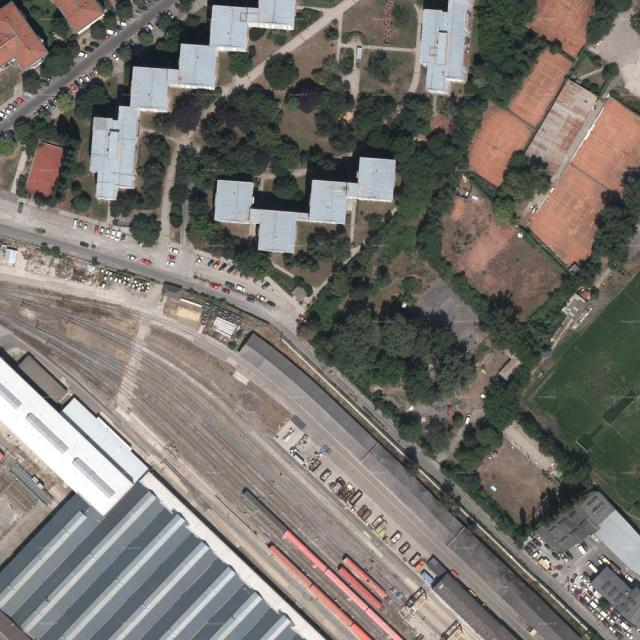building: (228, 326, 380, 475), (0, 358, 134, 517), (448, 524, 580, 640), (362, 443, 464, 544), (519, 78, 605, 184), (60, 394, 151, 484), (89, 104, 139, 202), (0, 2, 48, 71), (15, 351, 71, 405), (128, 66, 178, 114), (256, 210, 308, 255), (588, 564, 633, 608), (209, 5, 250, 53), (177, 43, 218, 89), (213, 180, 254, 224), (309, 179, 348, 224), (356, 157, 395, 202), (614, 587, 640, 624)
dryland: (419, 183, 569, 330), (586, 6, 640, 99), (152, 282, 212, 329), (202, 313, 235, 342)
greenland: (302, 83, 506, 356), (307, 283, 488, 413), (429, 241, 558, 377), (210, 72, 334, 211), (166, 187, 281, 297), (280, 43, 387, 150), (449, 354, 539, 481), (168, 109, 273, 212), (8, 99, 101, 211), (326, 81, 436, 167), (502, 408, 605, 499), (437, 449, 533, 546), (105, 127, 174, 246), (486, 147, 559, 233), (152, 76, 223, 146), (388, 396, 460, 463), (518, 472, 585, 534), (159, 142, 203, 229), (415, 183, 455, 277), (6, 104, 62, 159), (36, 30, 85, 87), (64, 75, 116, 124), (25, 143, 63, 206), (306, 224, 352, 262), (261, 51, 302, 93), (302, 141, 342, 178), (152, 11, 185, 54), (281, 248, 321, 272), (113, 39, 139, 66), (151, 7, 177, 32), (227, 52, 253, 77), (175, 144, 197, 173), (168, 183, 190, 205), (95, 55, 115, 78), (22, 69, 41, 93), (101, 9, 121, 31), (0, 131, 17, 156), (71, 191, 91, 212), (114, 0, 133, 22), (136, 26, 154, 48), (183, 13, 203, 30), (169, 204, 183, 227), (90, 21, 106, 40), (16, 174, 28, 198), (175, 0, 194, 13), (531, 370, 536, 373)
metalled_road: (24, 0, 177, 117), (0, 107, 27, 131)
unmetalled_road: (277, 0, 359, 57), (501, 419, 558, 476), (157, 149, 178, 239), (408, 5, 427, 93), (345, 43, 364, 98), (364, 44, 415, 54), (180, 204, 188, 247), (247, 69, 261, 82)
